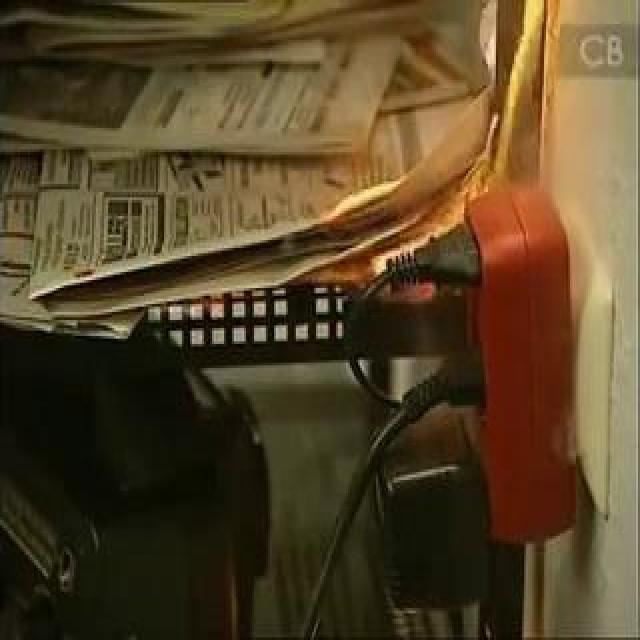Fire: (301, 3, 527, 317)
